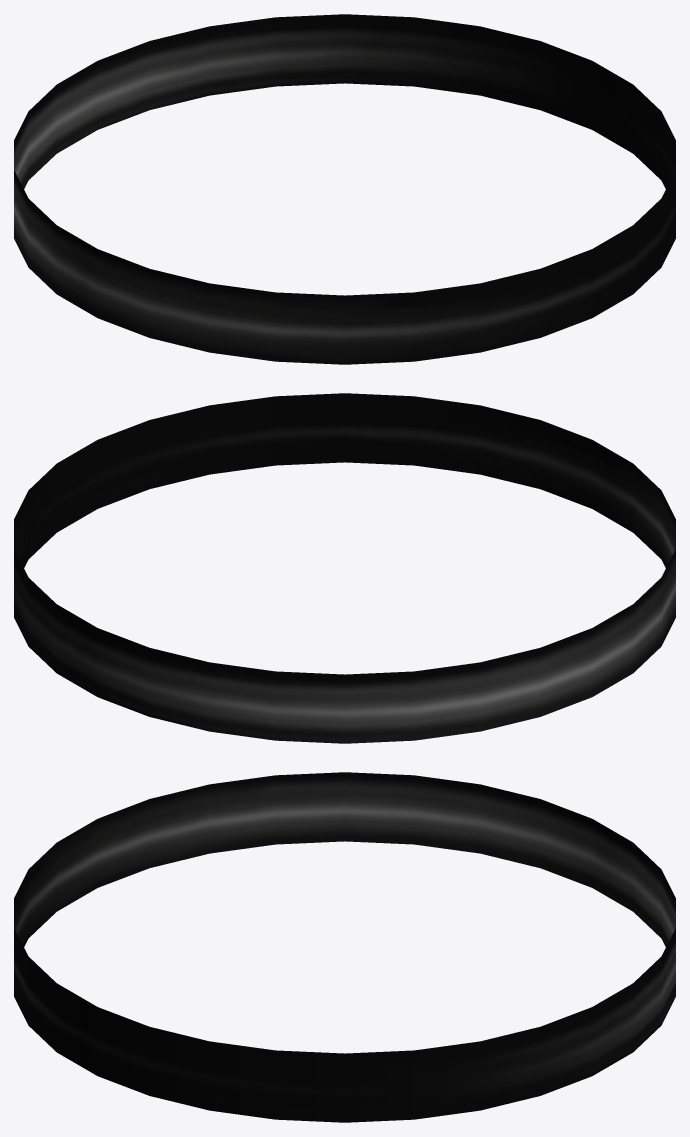
The picture shows the model from 3 angles, top to bottom: view 1: azimuth 30°, elevation 25°; view 2: azimuth 150°, elevation 25°; view 3: azimuth 270°, elevation 25°; orthographic projection.
Parts seen in each view (by area): view 1: cylinder; view 2: cylinder; view 3: cylinder.
Boxes of the visible parts, left/top/right/bottom form: cylinder: left=14, top=14, right=675, bottom=364; cylinder: left=14, top=393, right=675, bottom=743; cylinder: left=14, top=772, right=675, bottom=1122.
Bounding box in the file's own units: 2 × 0.2296 × 1.99.
1 material, 1 textured.
